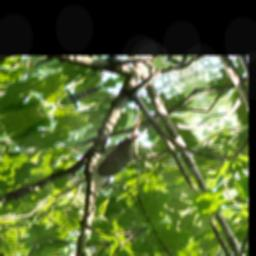Cuckoo: (67, 113, 171, 195)
